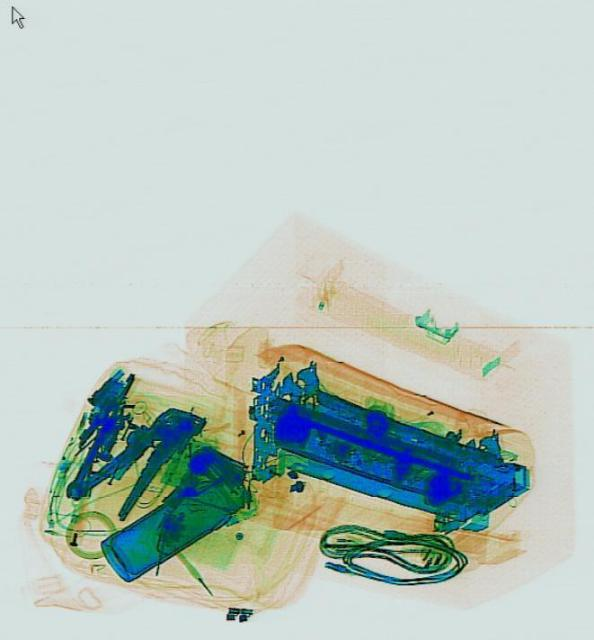Pliers: (62, 379, 207, 531)
